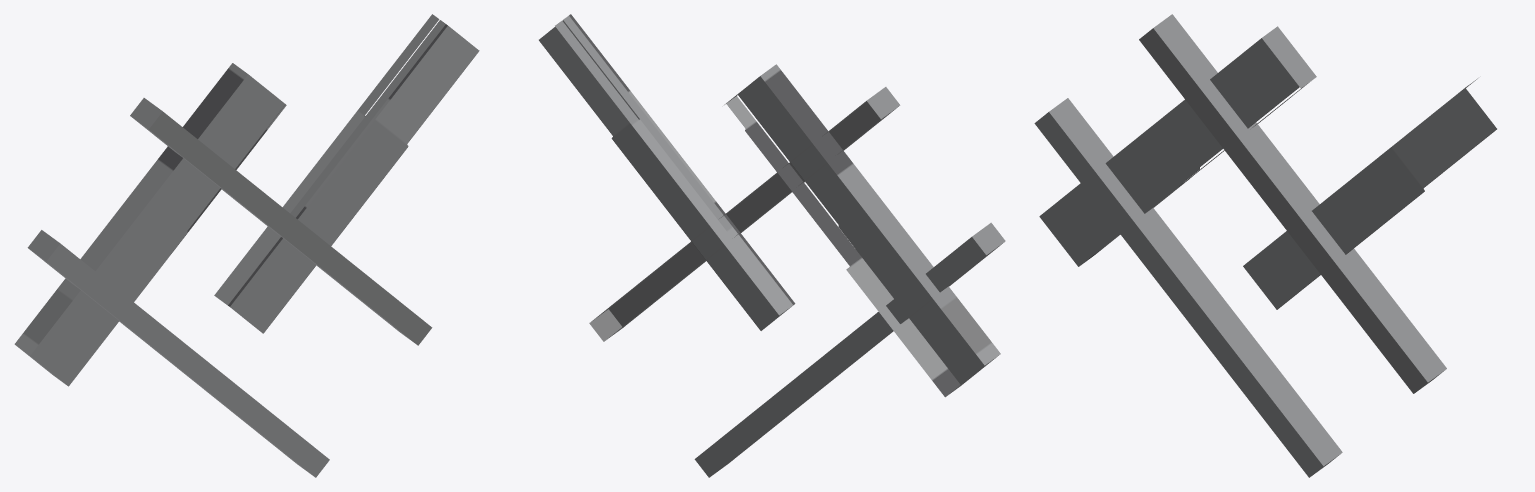
3 views of the same model, side by side, from view 1: azimuth 30°, elevation 25°; view 2: azimuth 150°, elevation 25°; view 3: azimuth 330°, elevation 25° (orthographic). The views are drawn at different scales.
Bounding box in the file's own units: 1.16 × 0.9929 × 0.115.
